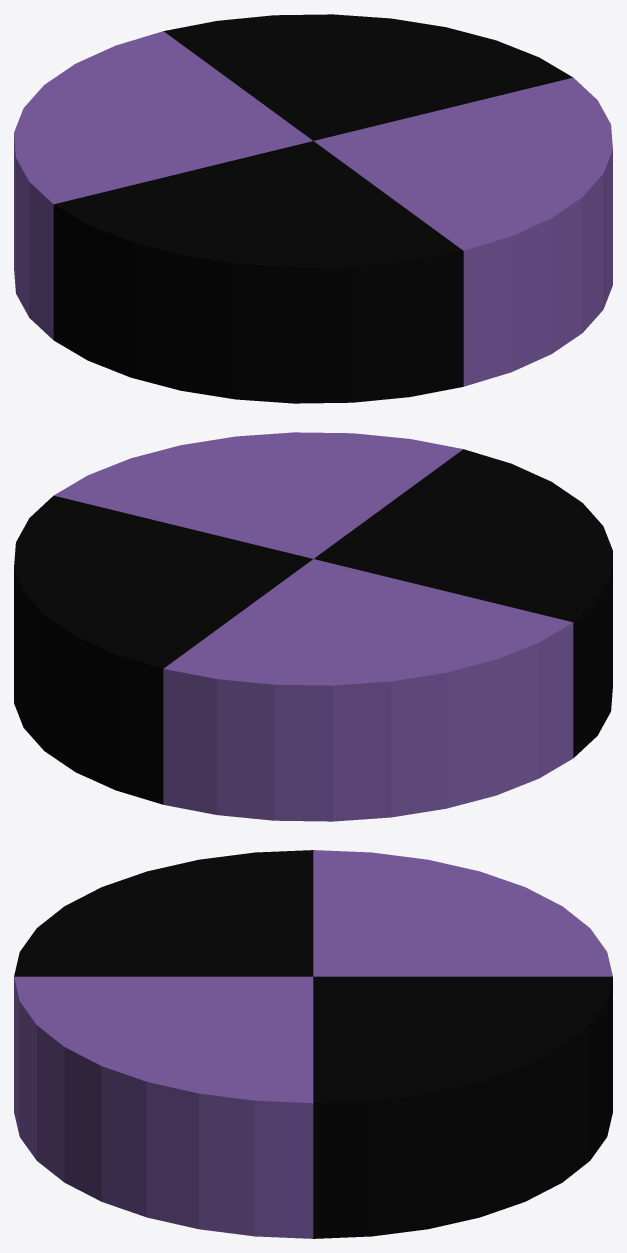
File: RightProjectile.glb
The picture shows the model from 3 angles, top to bottom: view 1: azimuth 30°, elevation 25°; view 2: azimuth 150°, elevation 25°; view 3: azimuth 270°, elevation 25°; orthographic projection.
Visible parts, largest first — view 1: projectile; view 2: projectile; view 3: projectile.
Part boxes in pixels (bbox=[...]): projectile: bbox=[14, 14, 612, 403]; projectile: bbox=[14, 432, 612, 821]; projectile: bbox=[14, 850, 612, 1238].
Size of the model in its own units: 0.4 by 0.1 by 0.4.
Materials: 1 (1 with a texture image).
